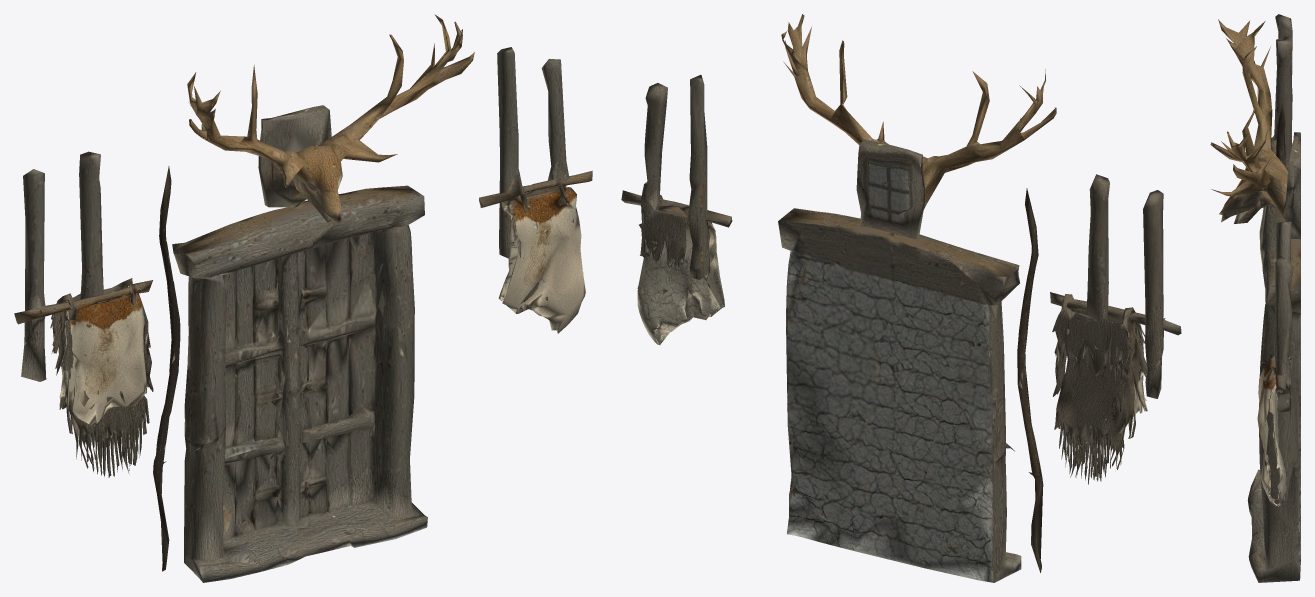
The model's file is jagdhuette.glb.
3 renders of one model, left to right at view 1: azimuth 30°, elevation 25°; view 2: azimuth 150°, elevation 25°; view 3: azimuth 270°, elevation 25°, orthographic. The views are drawn at different scales.
Bounding box in the file's own units: 1.9 × 1.6 × 0.2845.
Materials: 1 (1 with a texture image).
